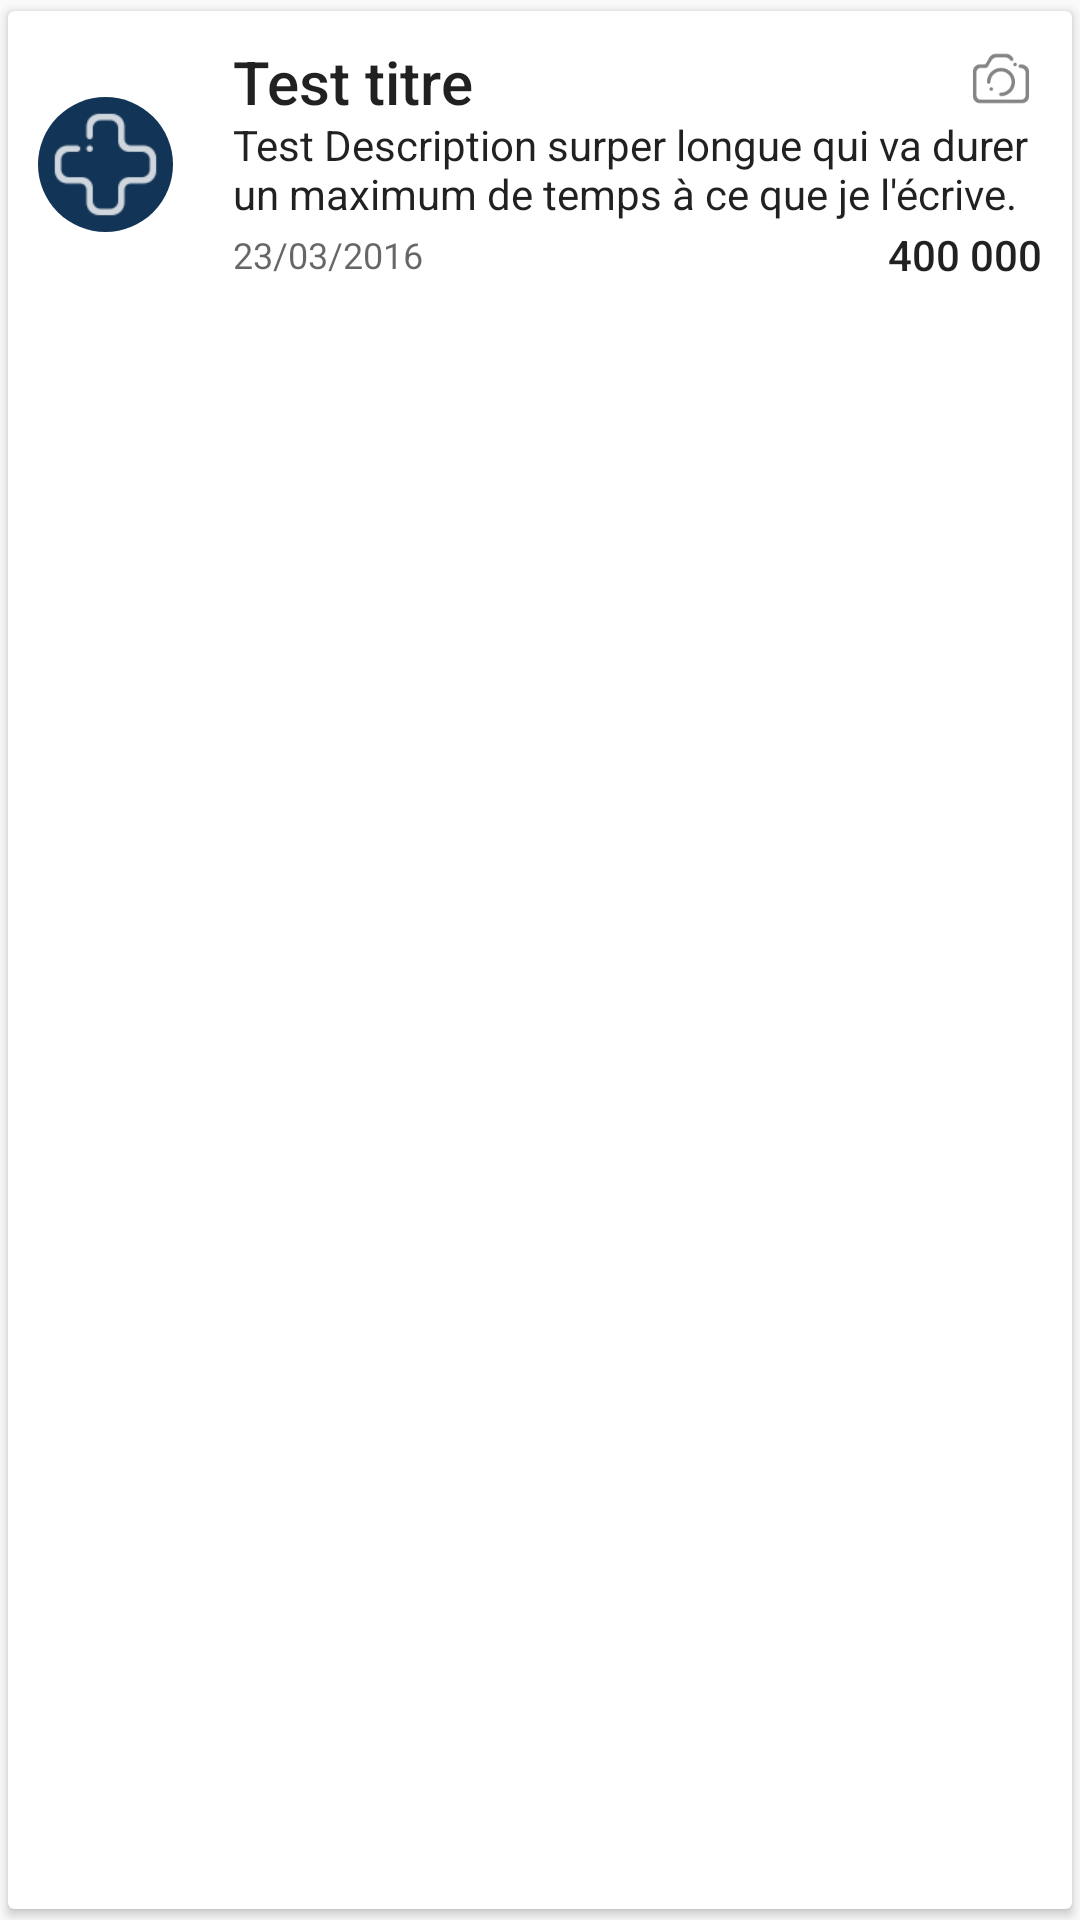

Icon click points for this 1080w x 1920h phone screenshot, format (x,y):
add: (105,164)
camera: (1001,78)
